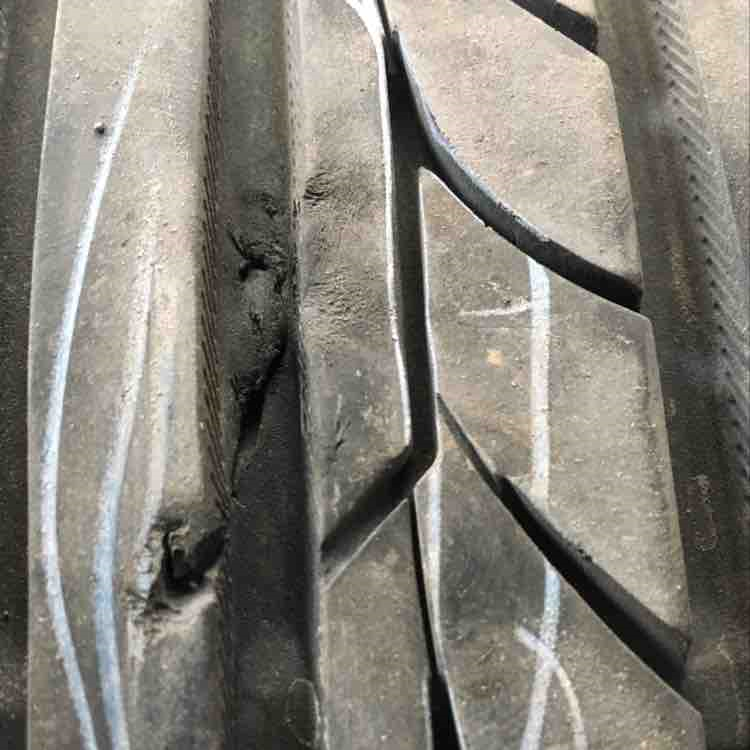tr: (122, 222, 306, 648)
